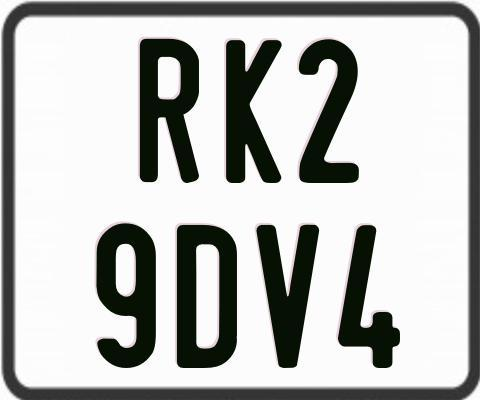2: (297, 39, 357, 184)
4: (336, 222, 398, 369)
9: (94, 223, 155, 368)
D: (177, 224, 240, 373)
K: (223, 37, 285, 180)
R: (139, 37, 200, 184)
V: (254, 222, 323, 365)
